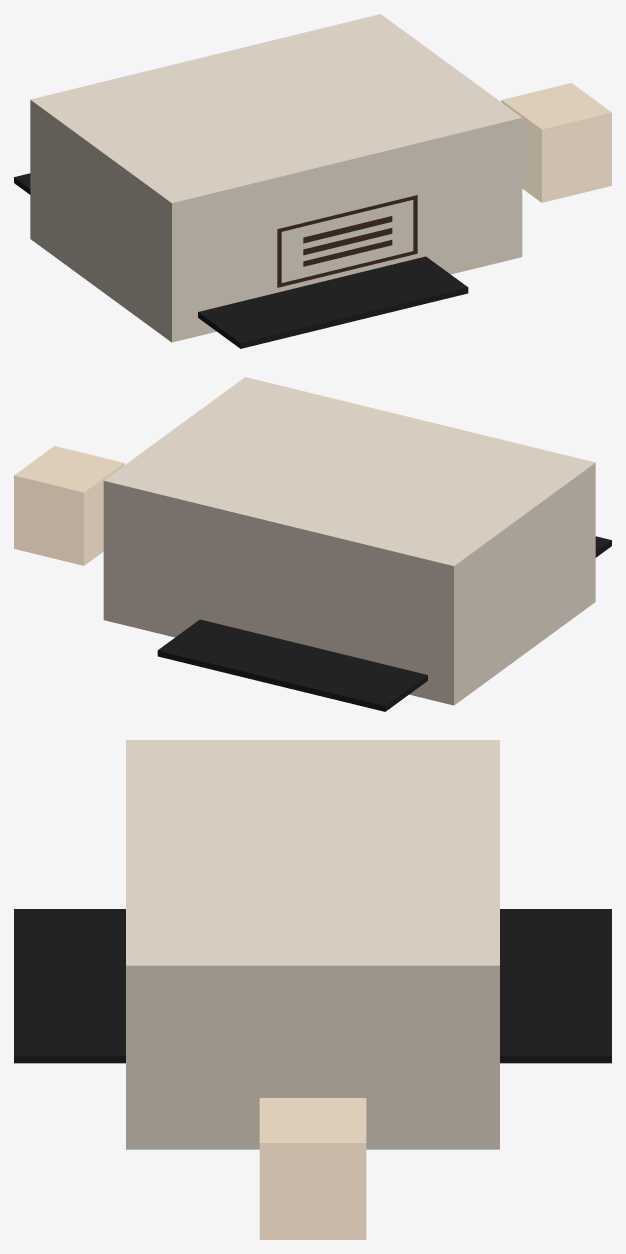
Rendered from hako-test-mauvais.glb.
3 renders of one model, top to bottom at view 1: azimuth 30°, elevation 25°; view 2: azimuth 150°, elevation 25°; view 3: azimuth 270°, elevation 25°, orthographic. The views are drawn at different scales.
Parts seen in each view (by area): view 1: case_lid, Case_Base, NVMe_Board, Cube, Logo_Decal; view 2: case_lid, Case_Base, NVMe_Board, Cube; view 3: case_lid, Case_Base, NVMe_Board, Cube.
Boxes of the visible parts, bbox=[...] form: case_lid: bbox=[30, 14, 522, 224]; Case_Base: bbox=[30, 122, 522, 342]; NVMe_Board: bbox=[14, 173, 468, 348]; Cube: bbox=[501, 83, 611, 202]; Logo_Decal: bbox=[277, 195, 417, 287]; case_lid: bbox=[103, 377, 595, 587]; Case_Base: bbox=[103, 485, 595, 705]; NVMe_Board: bbox=[157, 536, 611, 711]; Cube: bbox=[14, 446, 124, 565]; case_lid: bbox=[126, 740, 499, 994]; Case_Base: bbox=[126, 994, 499, 1149]; NVMe_Board: bbox=[14, 909, 611, 1063]; Cube: bbox=[259, 1098, 366, 1239].
Size of the model in its own units: 140 by 38 by 112.
7 materials, 2 textured.
